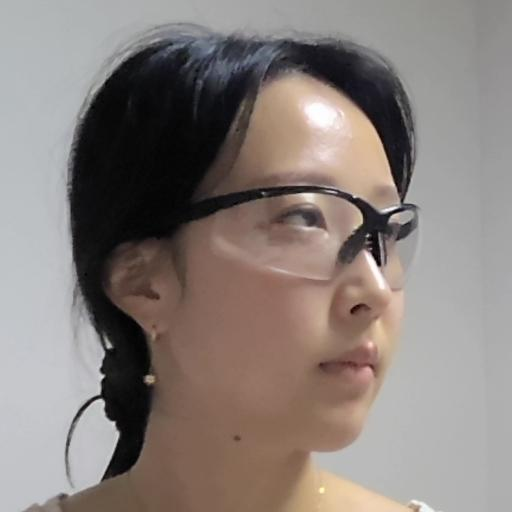glasses: (82, 35, 432, 467)
